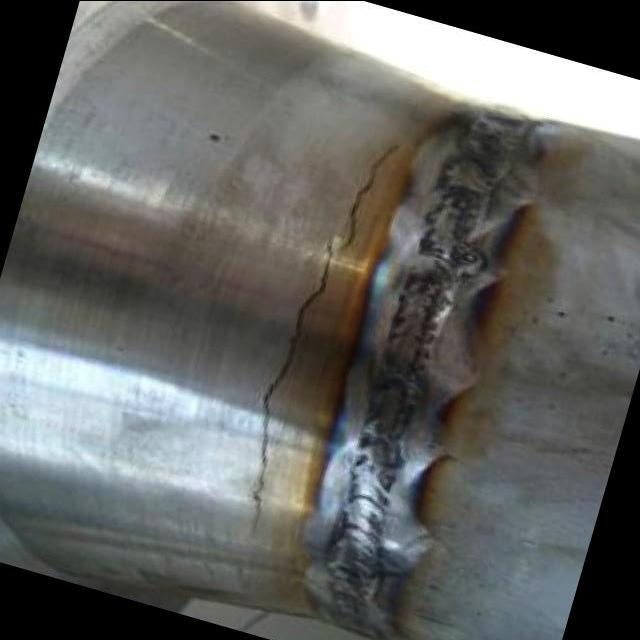defect: (245, 131, 409, 546)
